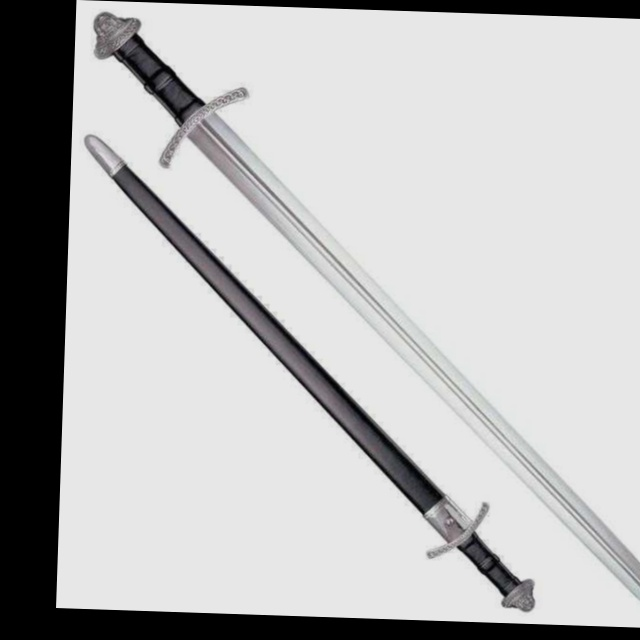Sharp-Object: (69, 10, 640, 616)
